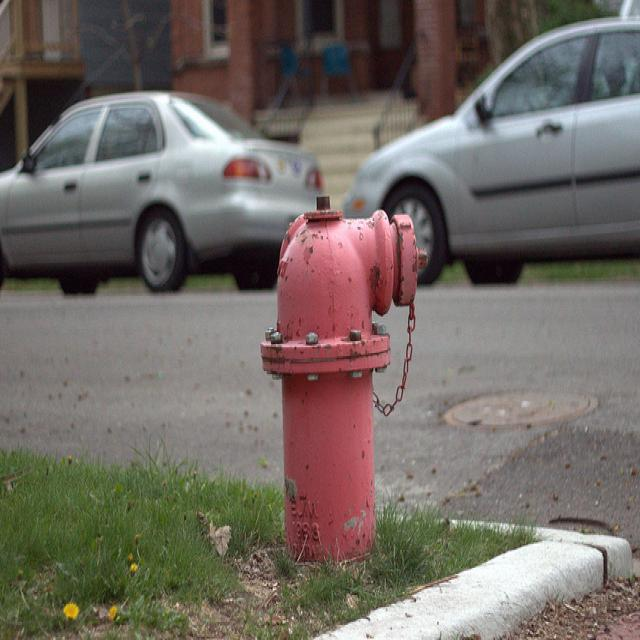Vehicle: (341, 15, 640, 285), (0, 88, 322, 290)
